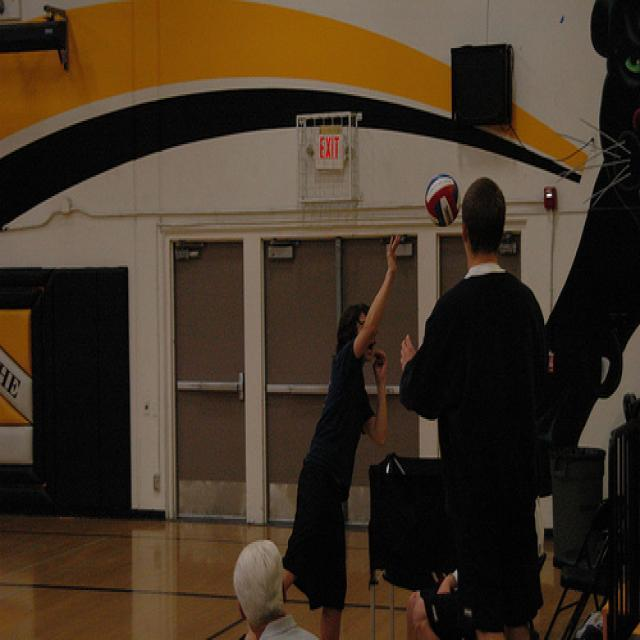volleyball: (424, 172, 460, 226)
